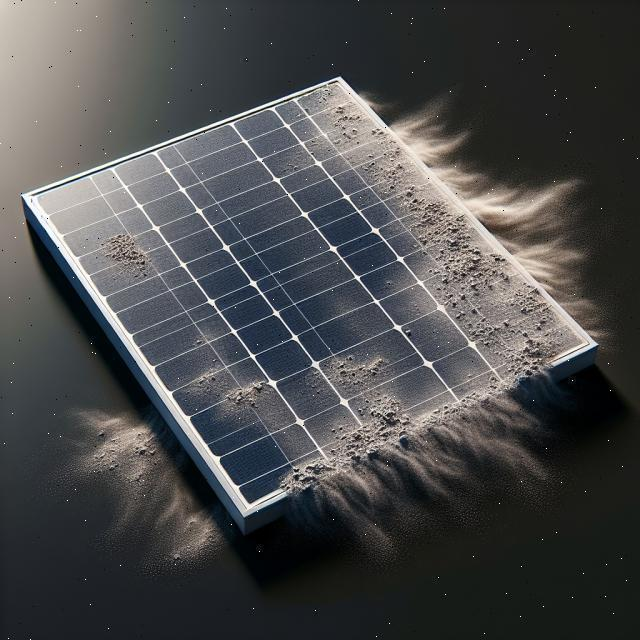Anomaly Solar Panel: (31, 2, 592, 534)
Surface Contaminant: (90, 67, 589, 567), (94, 224, 155, 286)
